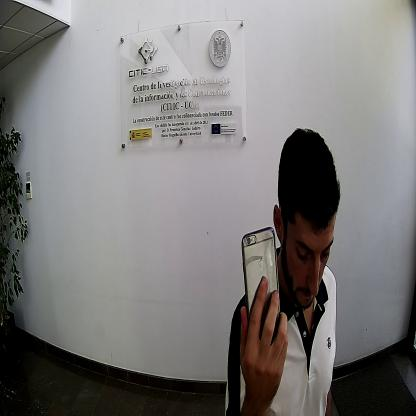smartphone: (241, 225, 281, 347)
